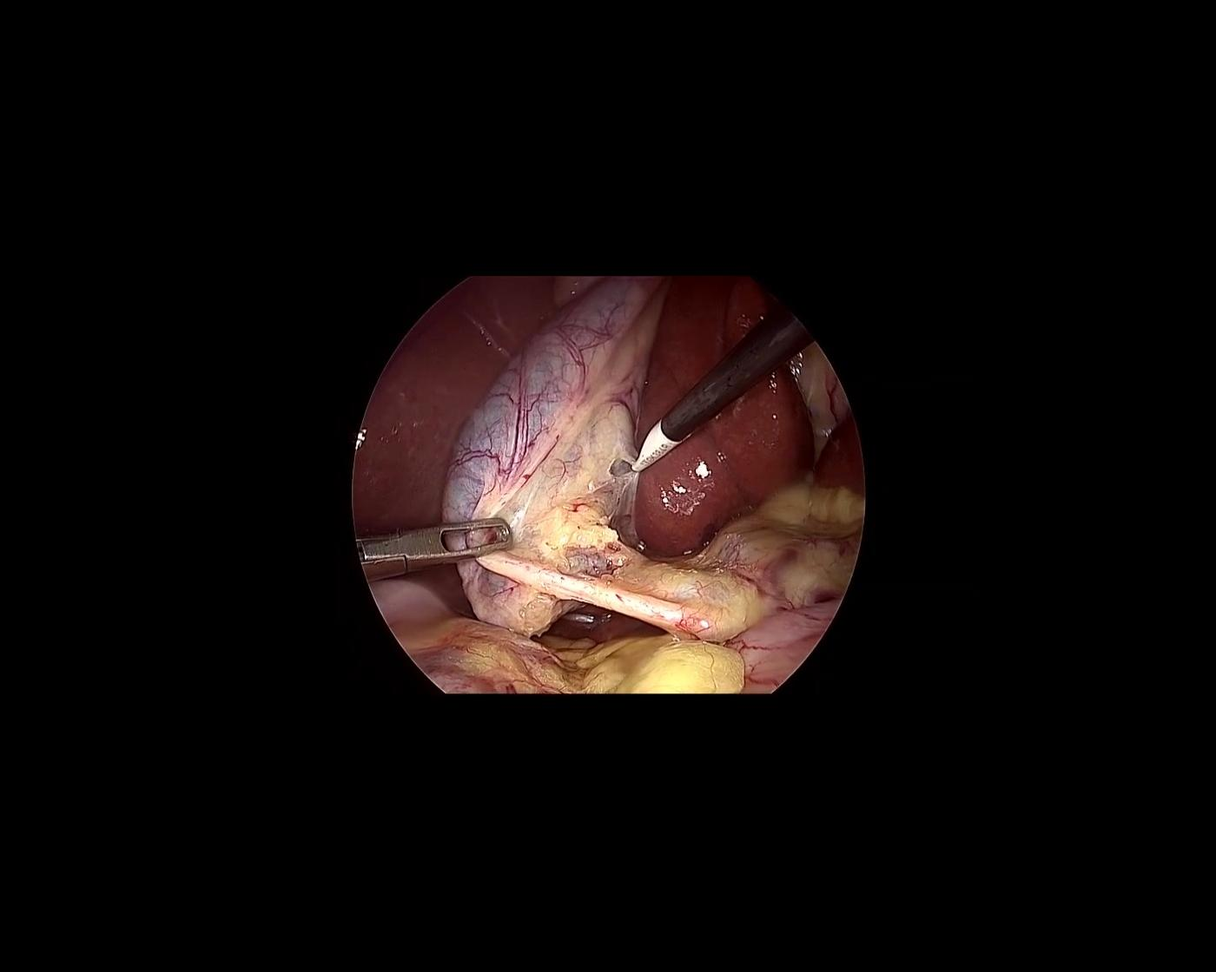Cautery: (607, 301, 813, 485)
Forceps: (358, 504, 518, 582)
Gallbladder: (428, 248, 667, 646)
Liver: (327, 244, 553, 612), (637, 281, 814, 549)
